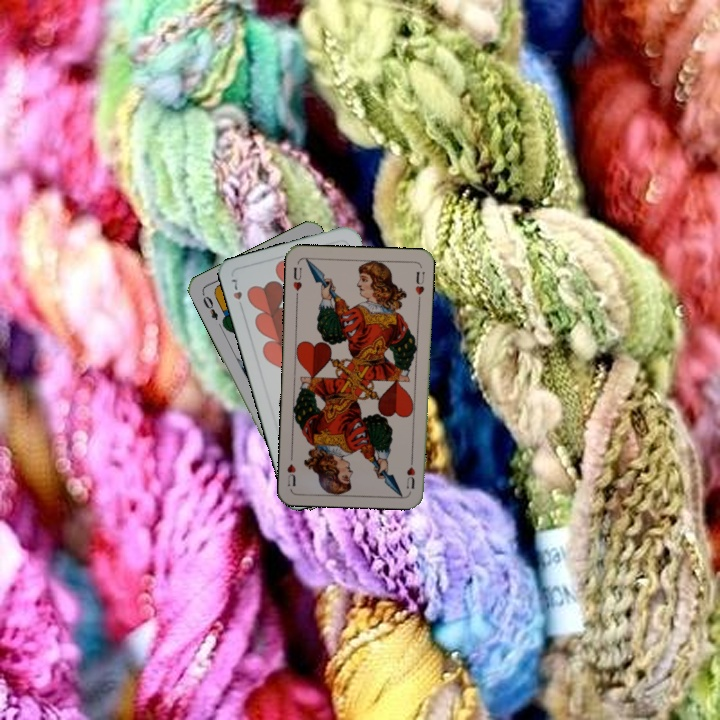EO: (198, 289, 221, 323)
H7: (227, 275, 246, 313)
HU: (403, 452, 418, 491), (289, 263, 304, 300)
